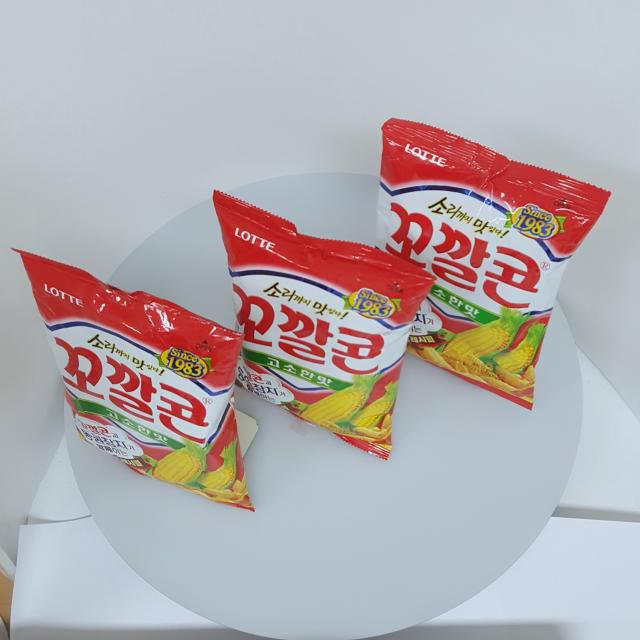-72G: (361, 118, 612, 411), (12, 249, 256, 513), (214, 190, 438, 461)
